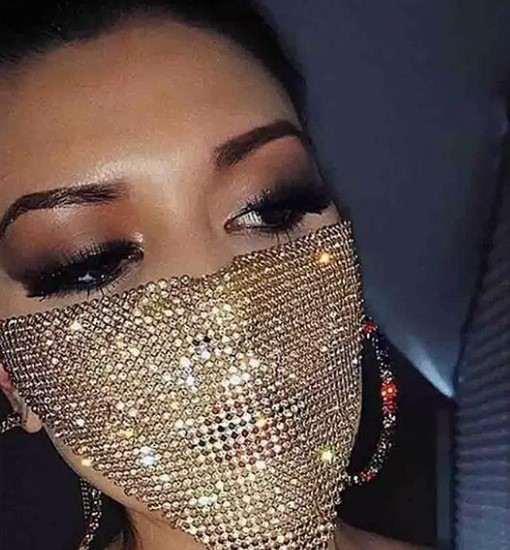face_with_mask: (2, 30, 373, 539)
